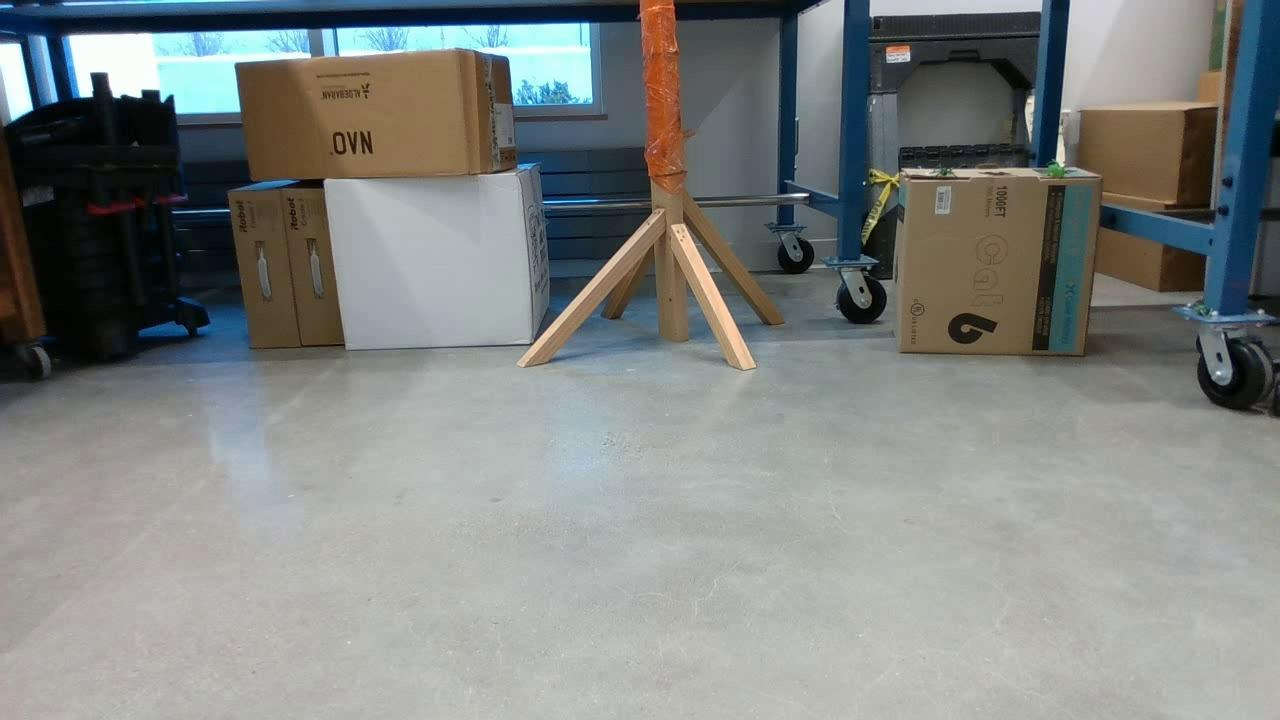grasshopper: (1038, 162, 1069, 181)
